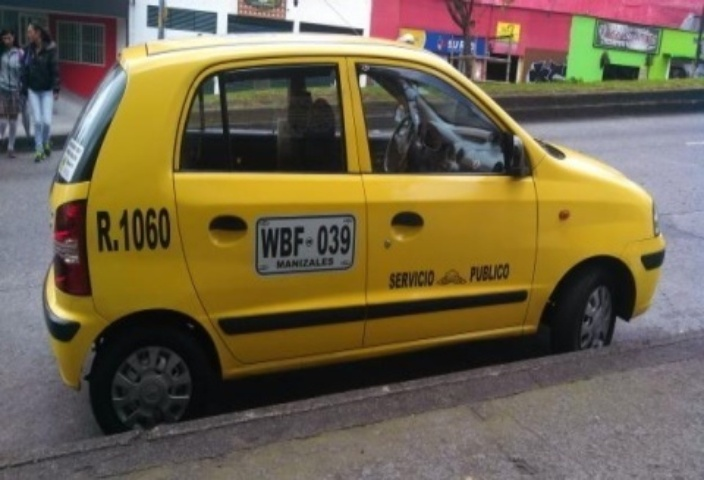taxi: (18, 14, 668, 445)
